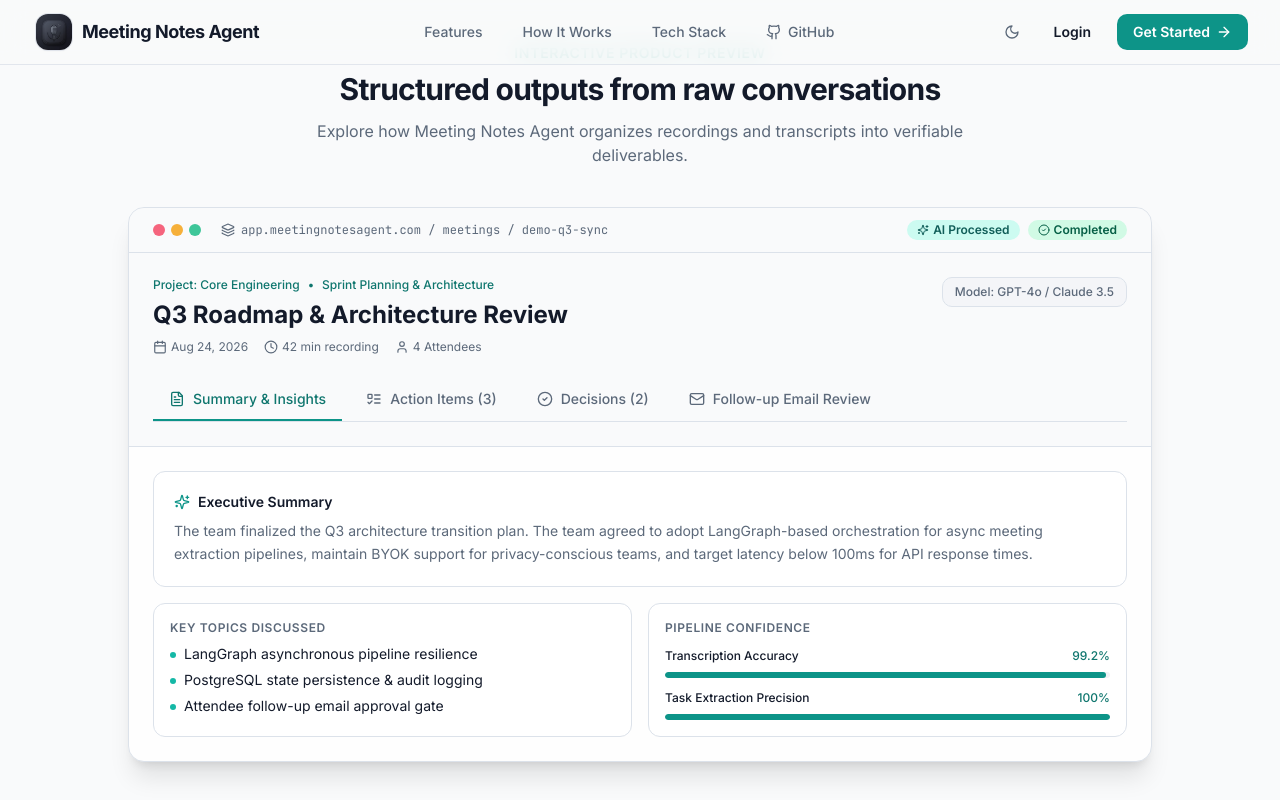
Test: LandingPage › allows switching tabs in the product preview
(page scrolled)
Note: Click on Action Items tab
Click the tab "Action Items (3)" at {"x": 431, "y": 400}, box [350,379,513,421]
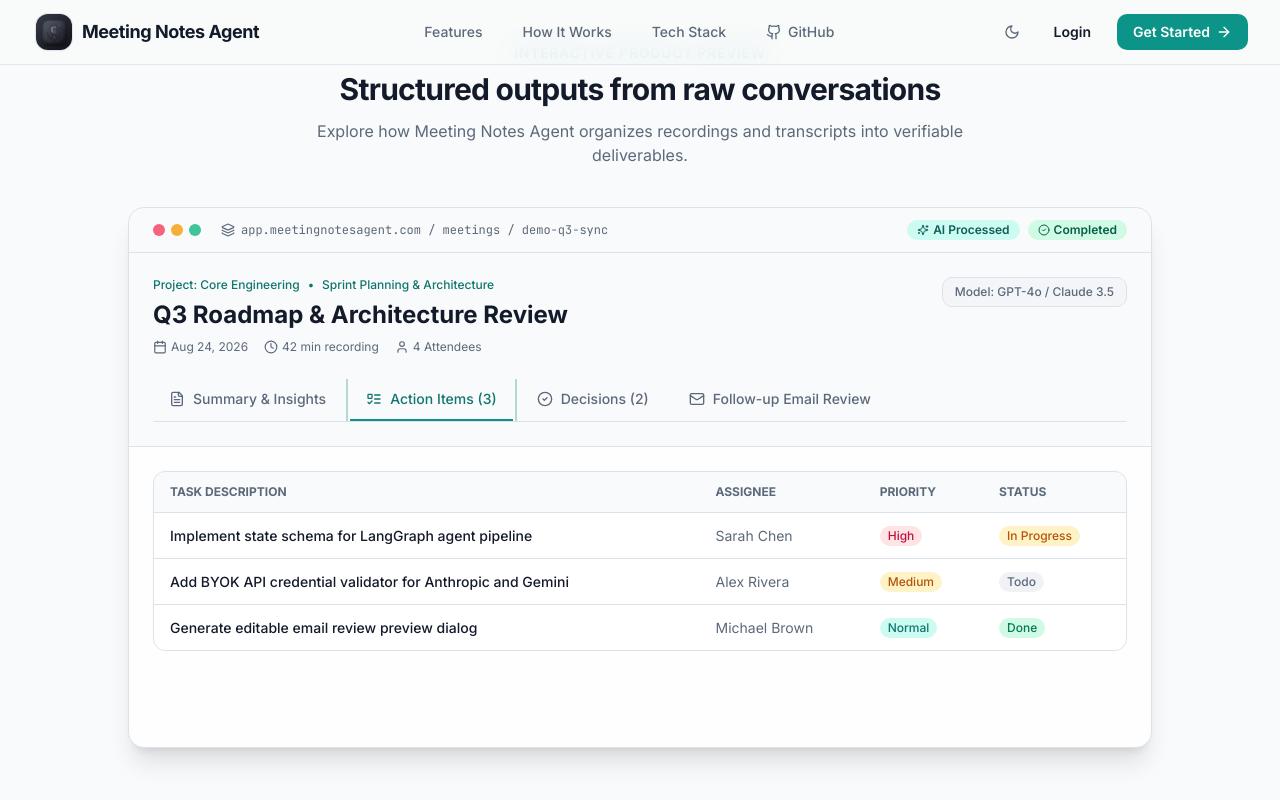
Expected: the text "Implement state schema for LangGraph agent pipeline" is shown, [154,512,700,558]
Note: Click on Decisions tab
Click the tab "Decisions (2)" at {"x": 593, "y": 400}, box [521,379,665,421]
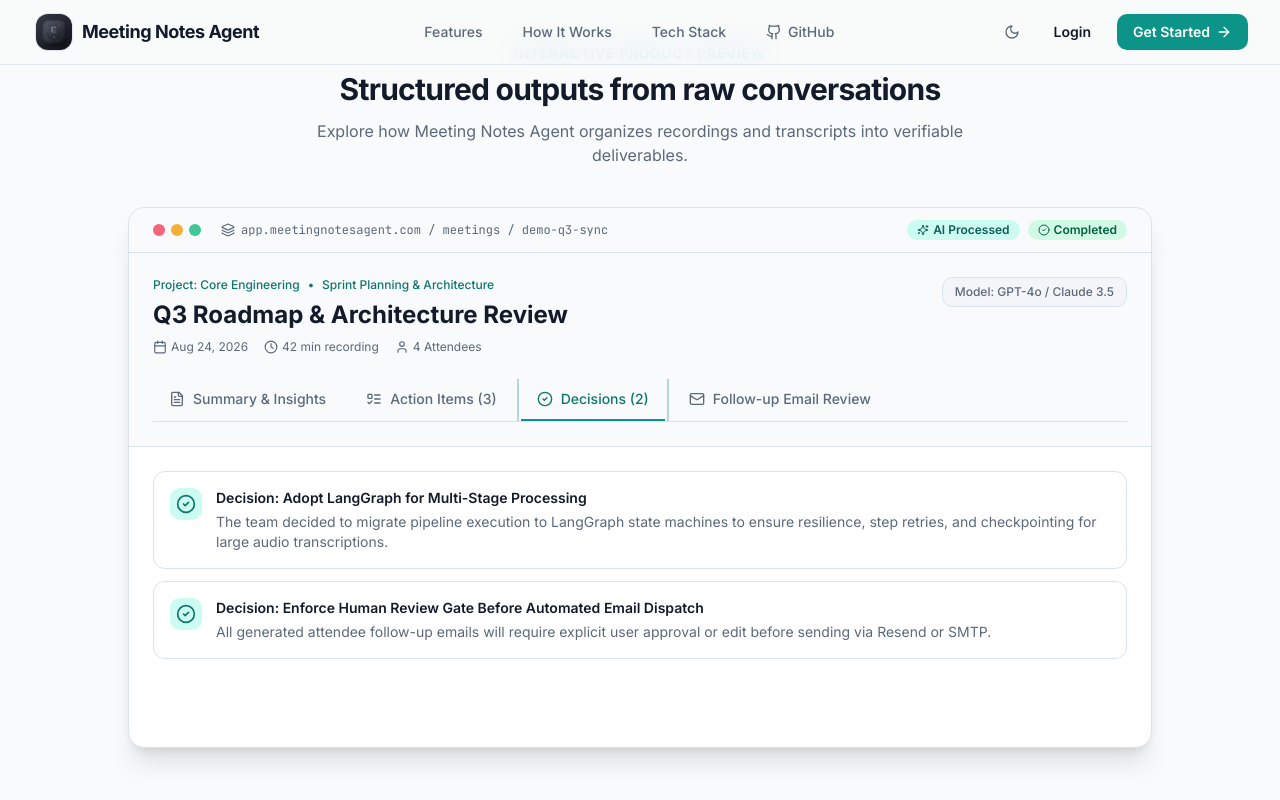
Expected: the heading "Decision: Adopt LangGraph for Multi-Stage Processing" is shown, [216,489,587,506]
